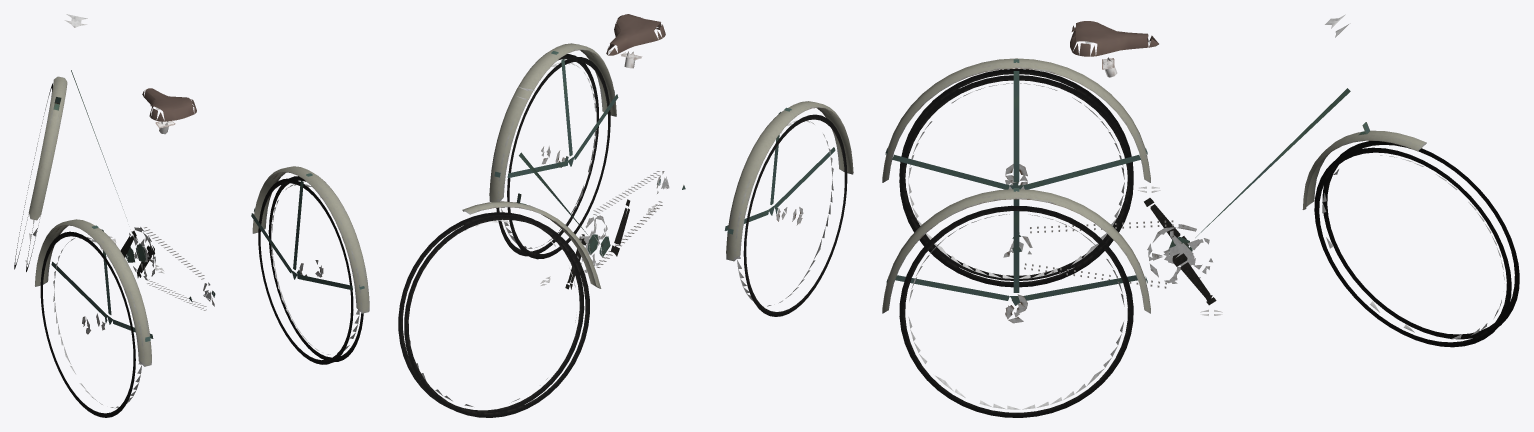
The model's file is bicycle.glb.
The picture shows the model from 3 angles, left to right: view 1: azimuth 30°, elevation 25°; view 2: azimuth 150°, elevation 25°; view 3: azimuth 270°, elevation 25°; orthographic projection. The views are drawn at different scales.
Parts seen in each view (by area): view 1: body; view 2: body; view 3: body.
Part boxes in pixels (bbox=[...]): body: bbox=[14, 14, 369, 417]; body: bbox=[398, 14, 853, 417]; body: bbox=[882, 14, 1519, 417].
Bounding box in the file's own units: 0.915 × 1.01 × 1.74.
Materials: 2 (2 with a texture image).
